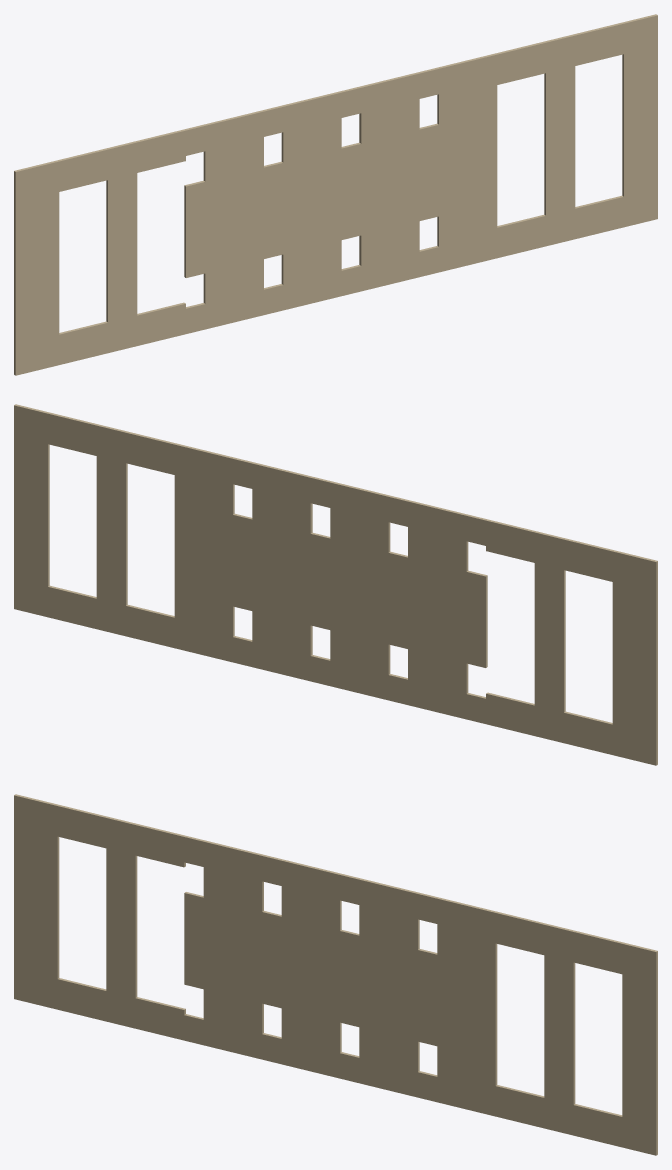
The model's file is TRAY.glb.
3 renders of one model, top to bottom at view 1: azimuth 30°, elevation 25°; view 2: azimuth 150°, elevation 25°; view 3: azimuth 330°, elevation 25°, orthographic.
Parts seen in each view (by area): view 1: geometry_0; view 2: geometry_0; view 3: geometry_0.
Part boxes in pixels (left/top/right/bottom): geometry_0: left=14, top=14, right=657, bottom=375; geometry_0: left=14, top=404, right=657, bottom=765; geometry_0: left=14, top=794, right=657, bottom=1155.
Bounding box in the file's own units: 660 × 200 × 3.
